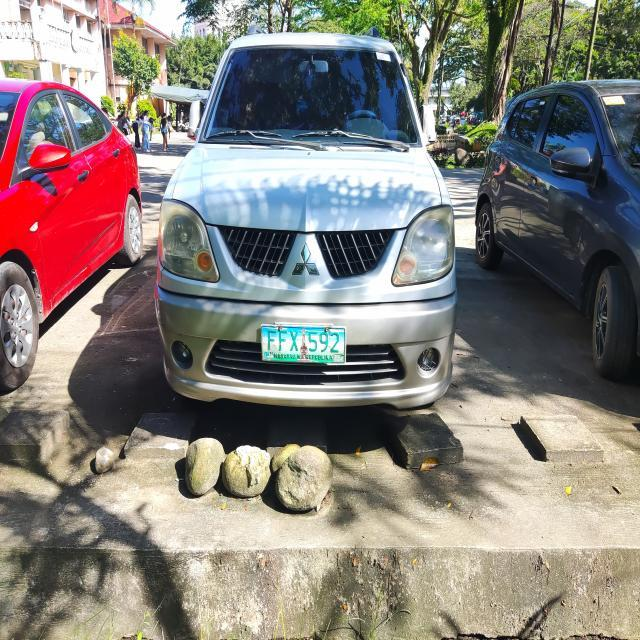LicensePlate: (256, 324, 354, 369)
